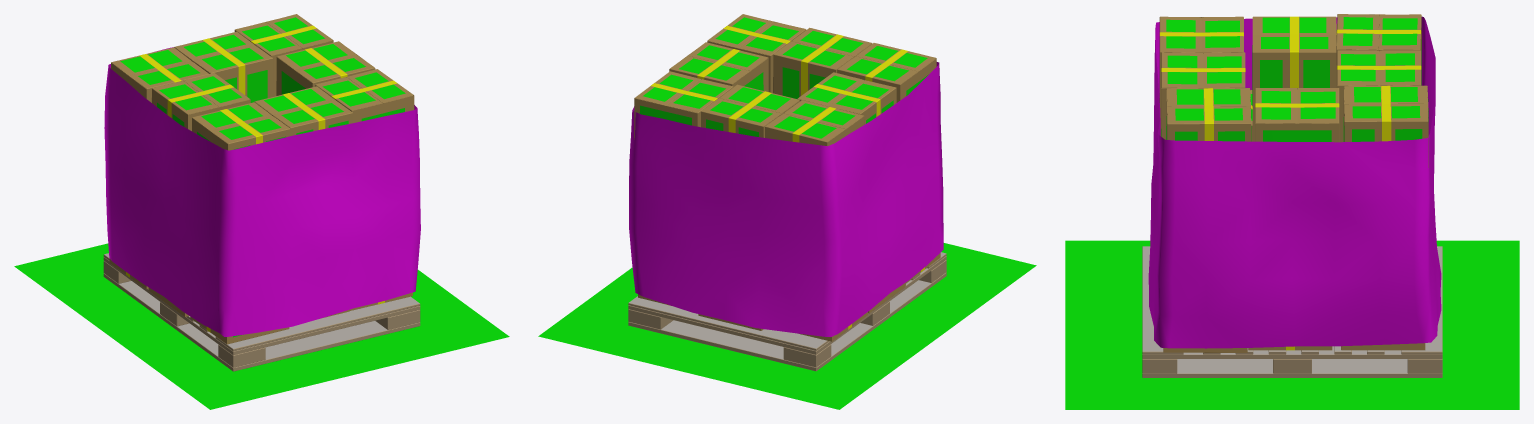
The model's file is pallet_box_pack.fbx.
The picture shows the model from 3 angles, left to right: view 1: azimuth 30°, elevation 25°; view 2: azimuth 150°, elevation 25°; view 3: azimuth 270°, elevation 25°; orthographic projection. The views are drawn at different scales.
Visible parts, largest first — view 1: wrap, shdw, box (×9), box_decal (×8), pallet, tape; view 2: wrap, shdw, box (×8), box_decal (×8), pallet, tape; view 3: wrap, shdw, box (×10), box_decal (×8), pallet, tape (×5).
Boxes of the visible parts, x1,y1,x2,y2 form: wrap: [104, 47, 420, 336]; shdw: [14, 243, 509, 409]; box (×9): [111, 14, 414, 344]; box_decal (×8): [120, 17, 405, 149]; pallet: [103, 253, 420, 371]; tape: [203, 38, 245, 94]; wrap: [629, 62, 943, 336]; shdw: [538, 243, 1036, 409]; box (×8): [634, 14, 936, 146]; box_decal (×8): [639, 17, 928, 138]; pallet: [628, 252, 946, 371]; tape: [801, 34, 843, 95]; wrap: [1148, 16, 1441, 348]; shdw: [1065, 240, 1519, 409]; box (×10): [1159, 14, 1428, 352]; box_decal (×8): [1166, 17, 1428, 141]; pallet: [1142, 246, 1442, 377]; tape (×5): [1159, 16, 1391, 141].
Size of the model in its own units: 325 by 231 by 369.
